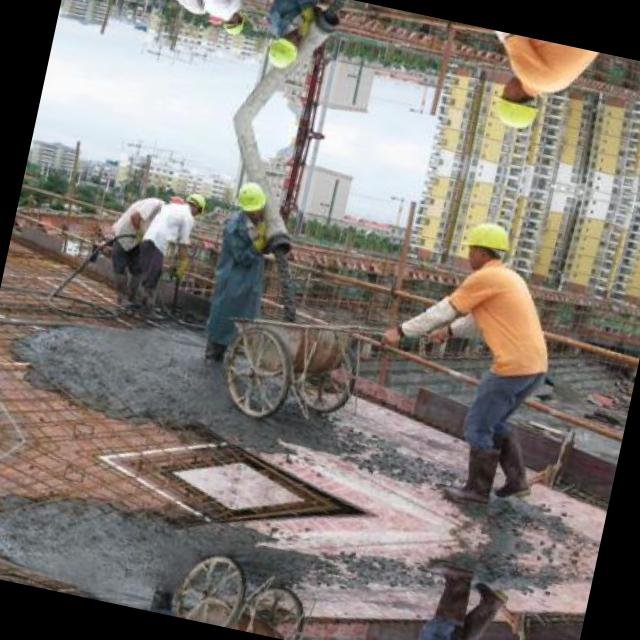helmet: (484, 72, 548, 136), (454, 214, 518, 276), (230, 177, 270, 220), (262, 29, 300, 72), (182, 190, 208, 220), (221, 7, 247, 37)
